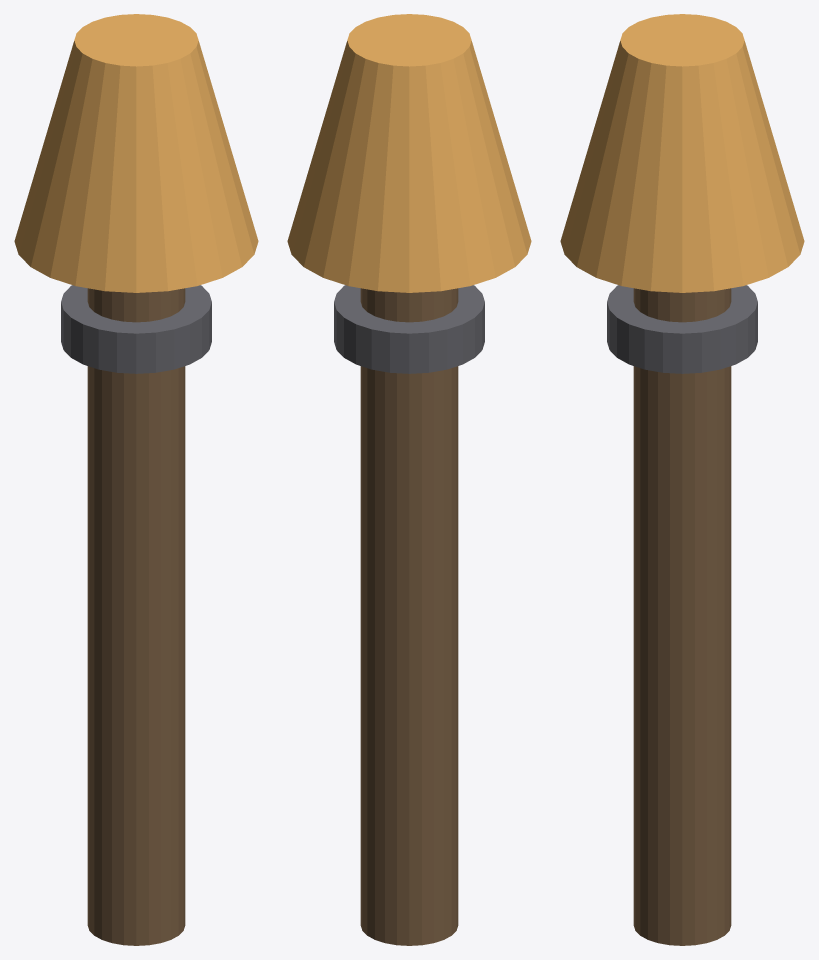
File: torch-sconce.glb
3 renders of one model, left to right at view 1: azimuth 30°, elevation 25°; view 2: azimuth 150°, elevation 25°; view 3: azimuth 270°, elevation 25°, orthographic.
Visible parts, largest first — view 1: torch-sconce; view 2: torch-sconce; view 3: torch-sconce.
Boxes of the visible parts, x1,y1,x2,y2 form: torch-sconce: [14, 14, 258, 945]; torch-sconce: [287, 14, 531, 945]; torch-sconce: [560, 14, 804, 945].
Bounding box in the file's own units: 0.11 × 0.44 × 0.11.
